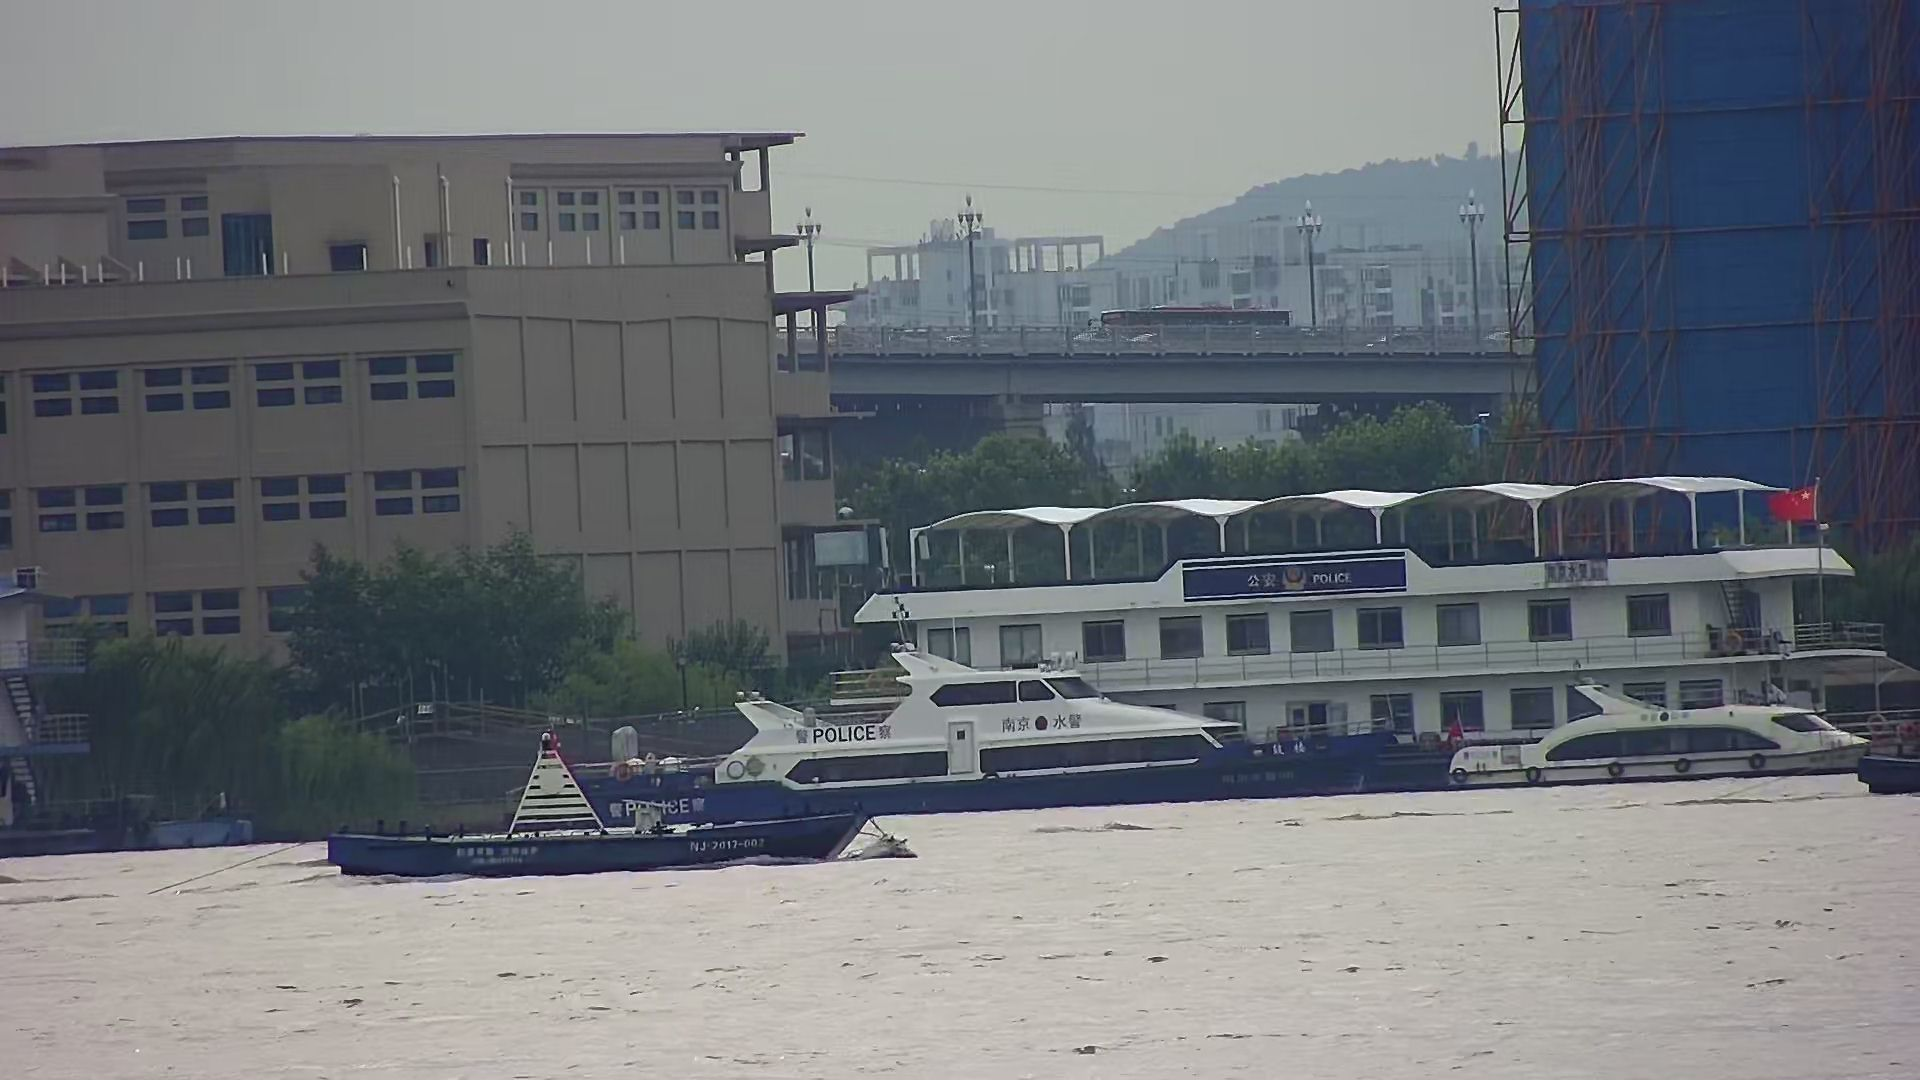boat: (286, 705, 923, 895), (695, 640, 1269, 796), (520, 742, 1440, 814), (1437, 669, 1880, 799)
